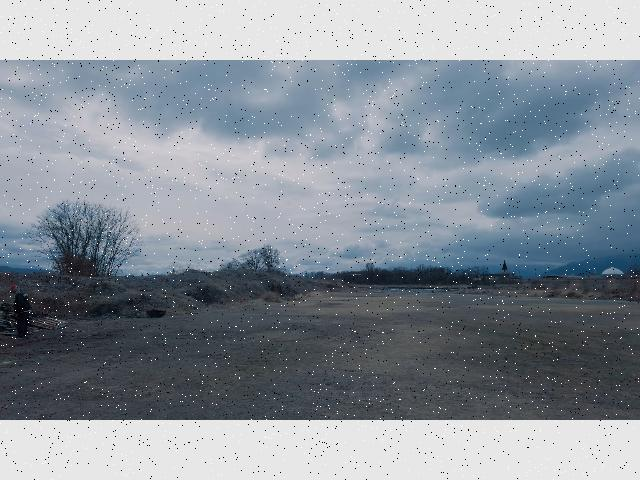Anti-Drone: (344, 272, 364, 278)
